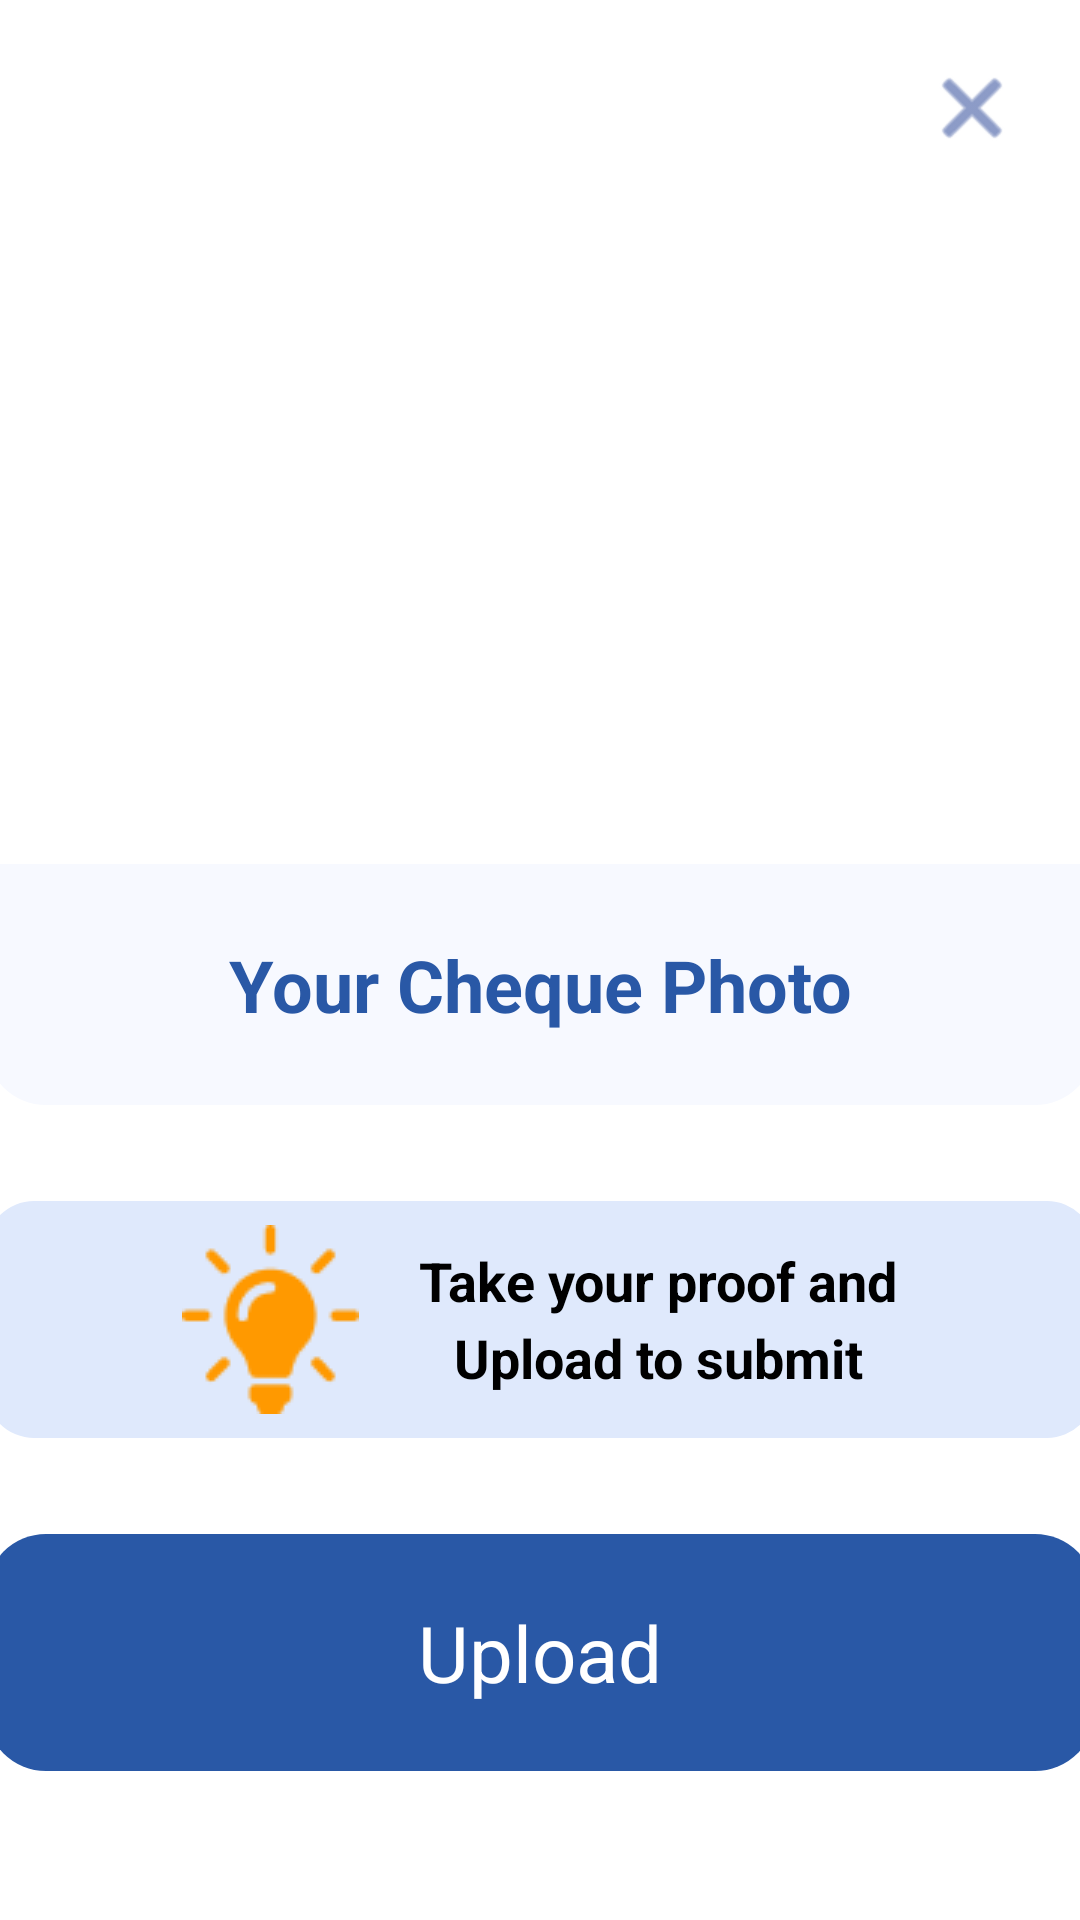

Icons on this 1080×1920 Android screen, each with its box as [x1=x1, y1=y1, x2=x2, y2=y2]:
close clear cancel: [x1=942, y1=78, x2=1002, y2=138]
